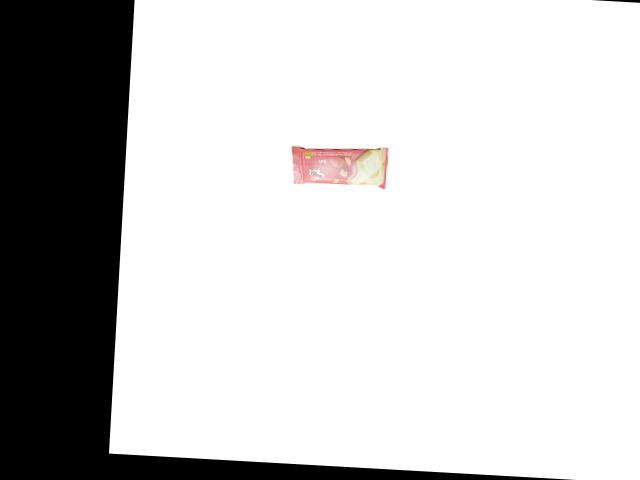chocolate: (283, 135, 389, 191)
